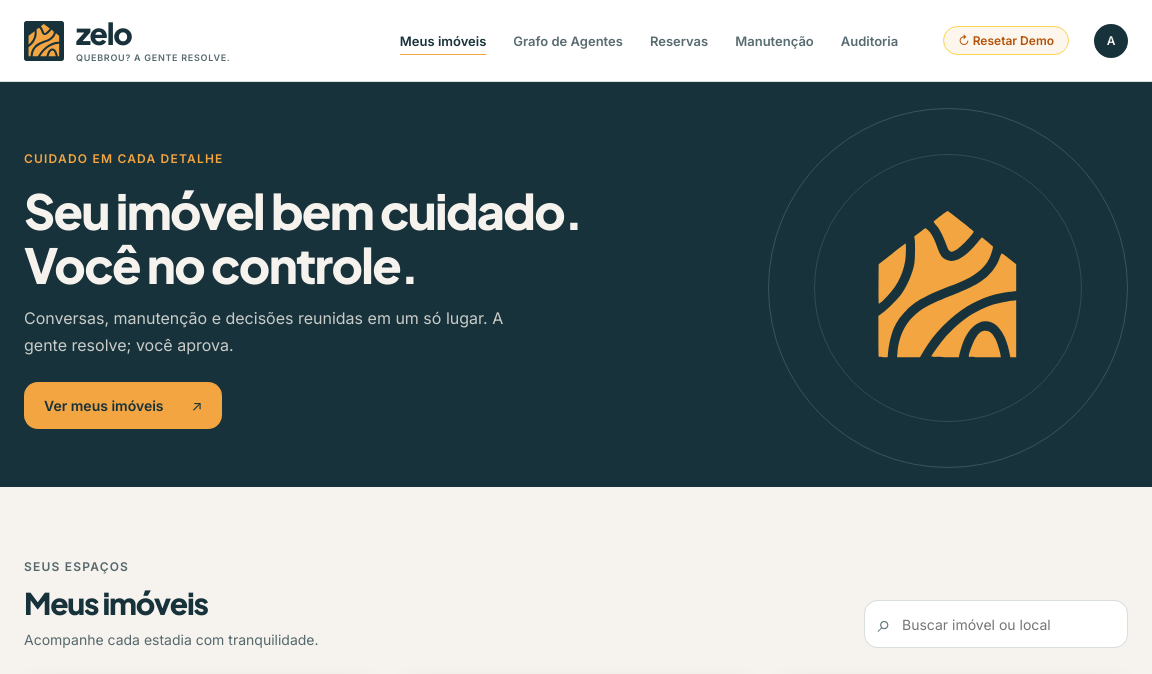
Test: Navegação até o Grafo de Agentes pelo Header › navega para /agentes e renderiza o grafo a partir do menu principal
Click the link "Grafo de Agentes" at (568,40), box top-left (513, 32), bottom-right (623, 48)
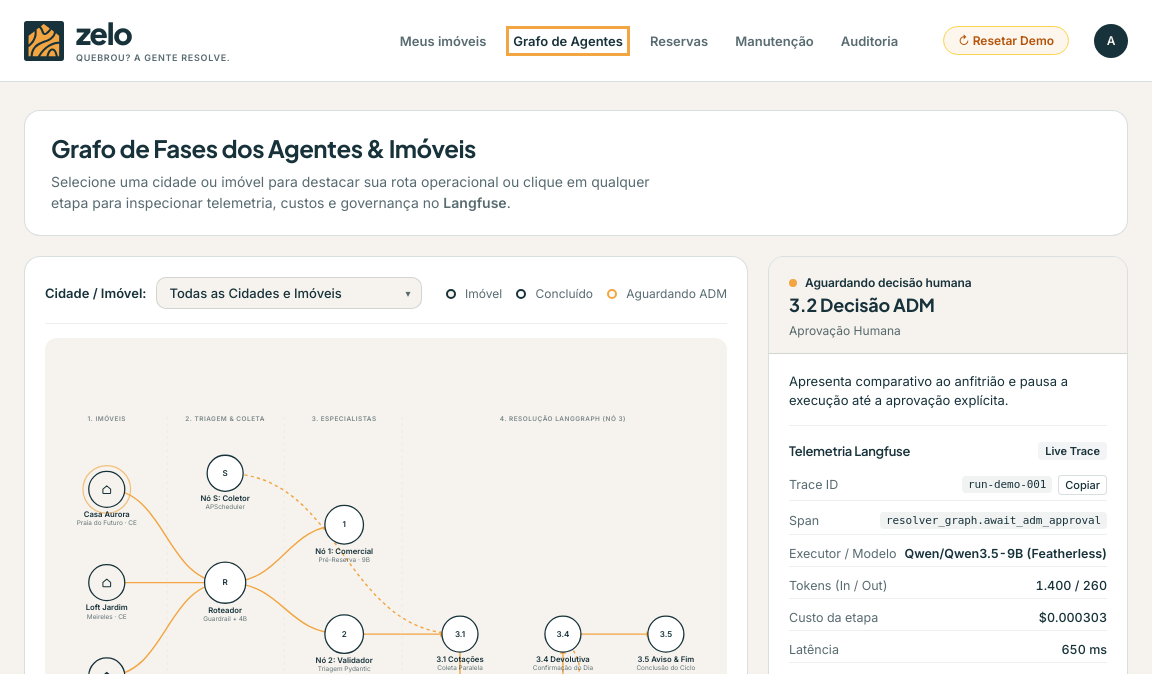
Now the heading "Grafo de Fases dos Agentes & Imóveis" is shown, box top-left (51, 133), bottom-right (476, 163)
